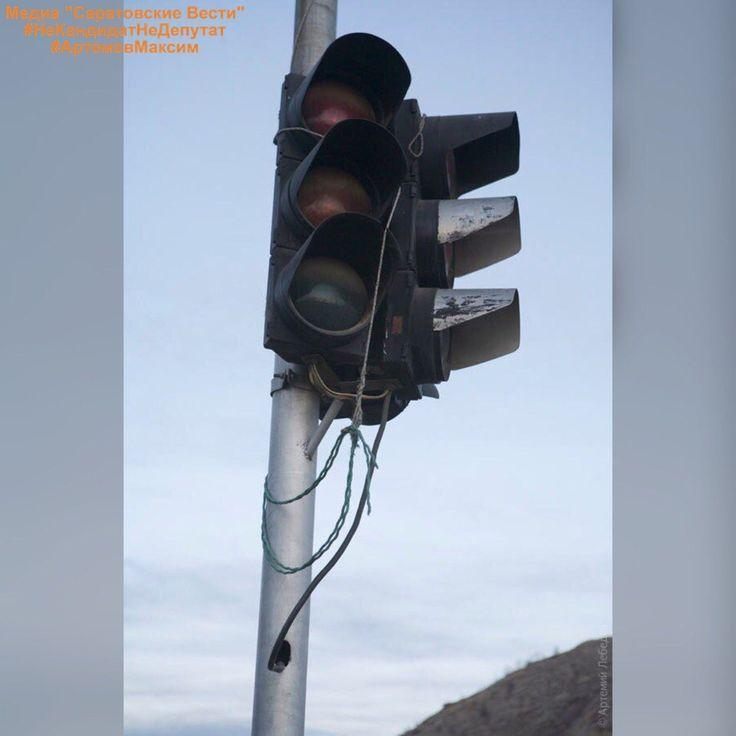off traffic light: (264, 33, 411, 391), (407, 112, 520, 385)
